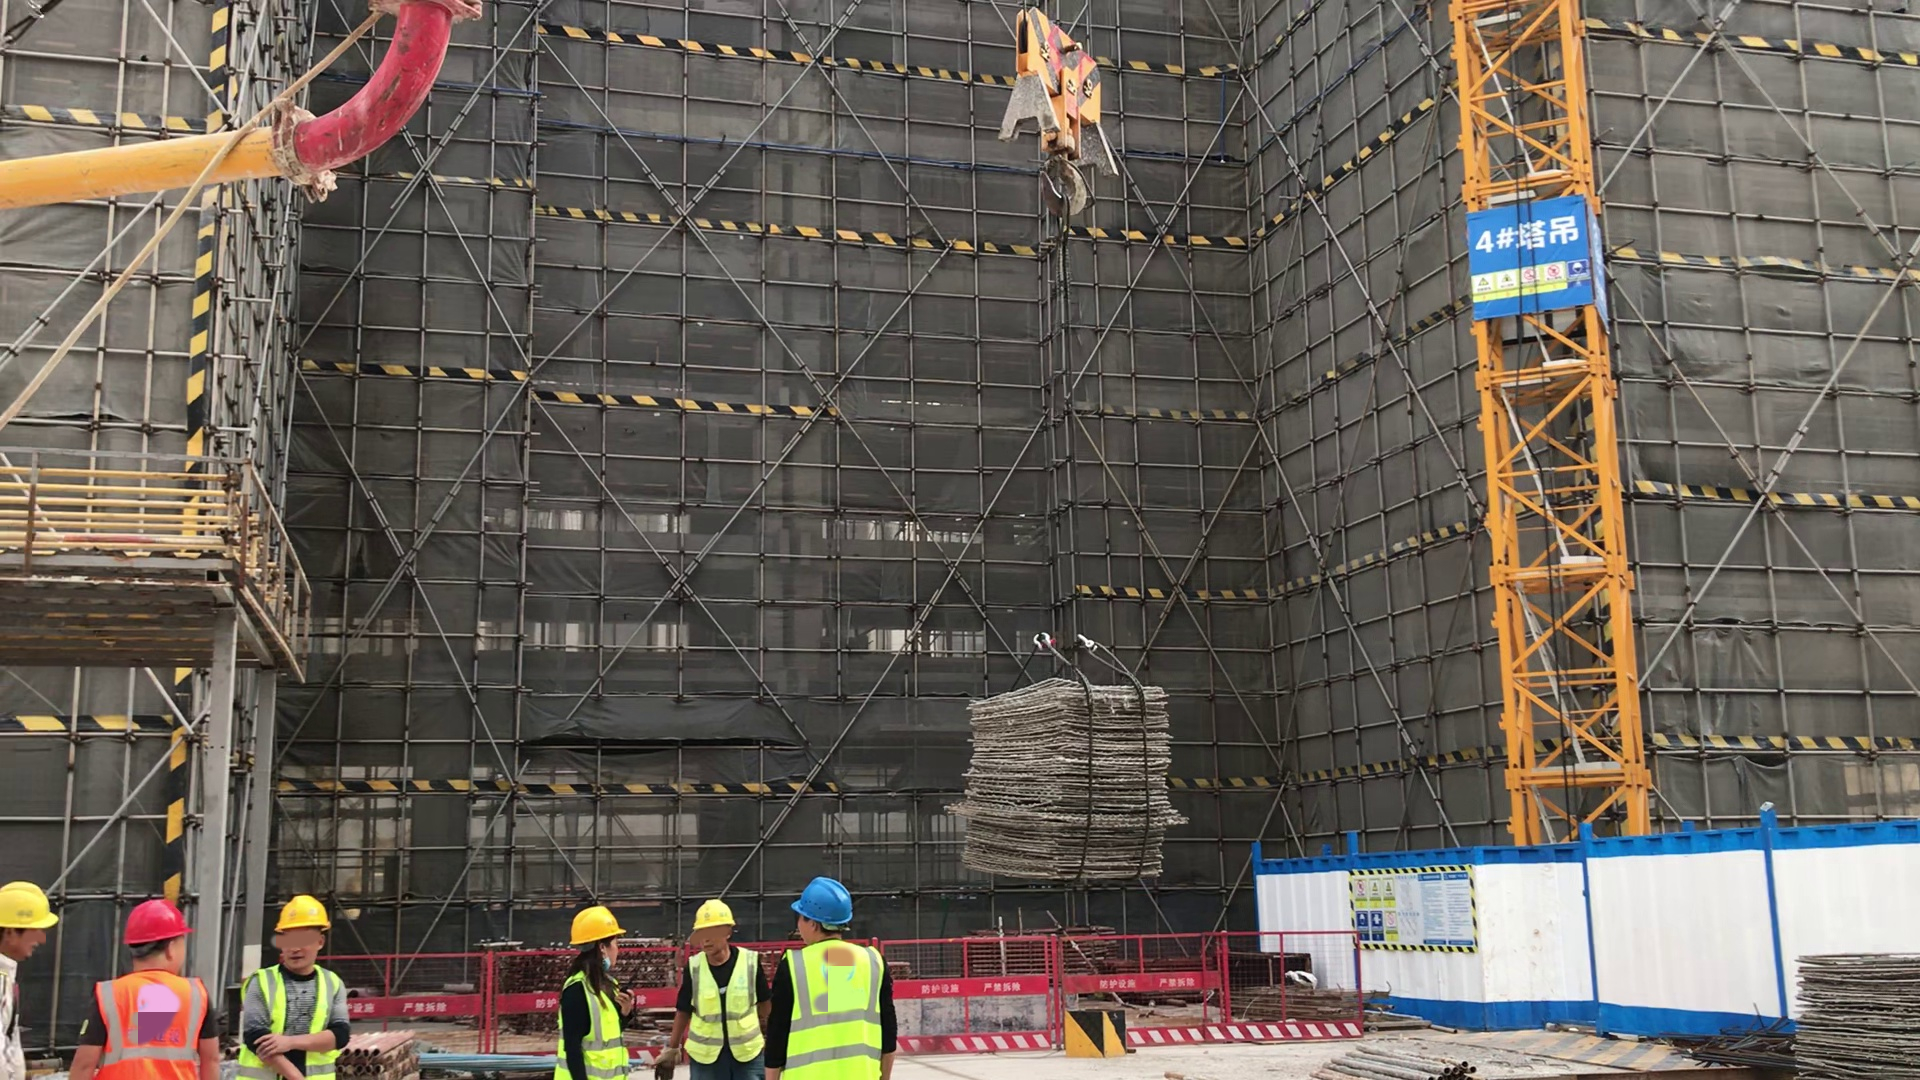fence: (1126, 926, 1365, 1045), (911, 931, 1065, 1054), (365, 948, 552, 1035)
helmet: (789, 877, 856, 931), (123, 902, 195, 945), (1, 880, 57, 931), (566, 906, 627, 945), (273, 894, 333, 933), (691, 898, 736, 933)
hook: (989, 4, 1117, 220)
person: (73, 898, 224, 1080), (773, 876, 903, 1080), (234, 893, 358, 1080), (654, 897, 767, 1080), (556, 905, 630, 1080), (1, 875, 64, 1080)
scaffold: (1306, 1042, 1496, 1080), (352, 1024, 426, 1080)
slogan: (1470, 212, 1591, 311), (1350, 874, 1478, 948)
vest: (780, 942, 886, 1080), (90, 969, 210, 1080), (240, 963, 341, 1080), (556, 973, 631, 1080), (686, 952, 725, 1067)
